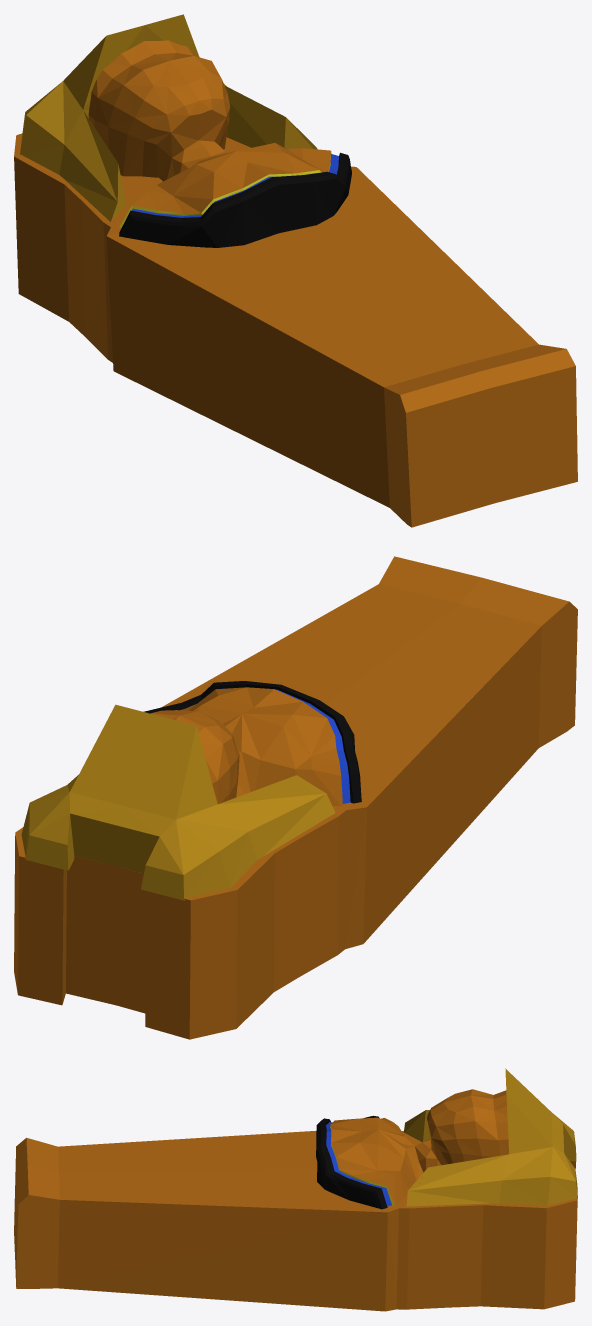
The model's file is Egyptian_sacrophagus.FBX.
3 renders of one model, top to bottom at view 1: azimuth 30°, elevation 25°; view 2: azimuth 150°, elevation 25°; view 3: azimuth 270°, elevation 25°, orthographic. The views are drawn at different scales.
Parts seen in each view (by area): view 1: Egyptian_Sacrophagus; view 2: Egyptian_Sacrophagus; view 3: Egyptian_Sacrophagus.
Boxes of the visible parts, x1,y1,x2,y2 form: Egyptian_Sacrophagus: (14, 14, 577, 527); Egyptian_Sacrophagus: (14, 556, 577, 1039); Egyptian_Sacrophagus: (14, 1068, 577, 1311).
Size of the model in its own units: 102 by 101 by 269.
